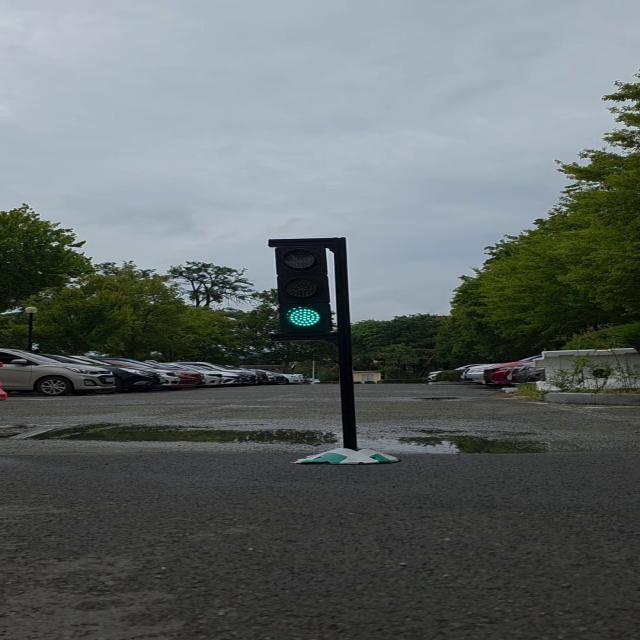green: (276, 244, 340, 338)
